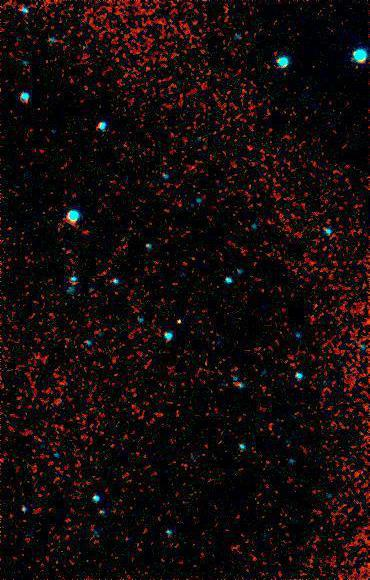star: (164, 306, 194, 336)
